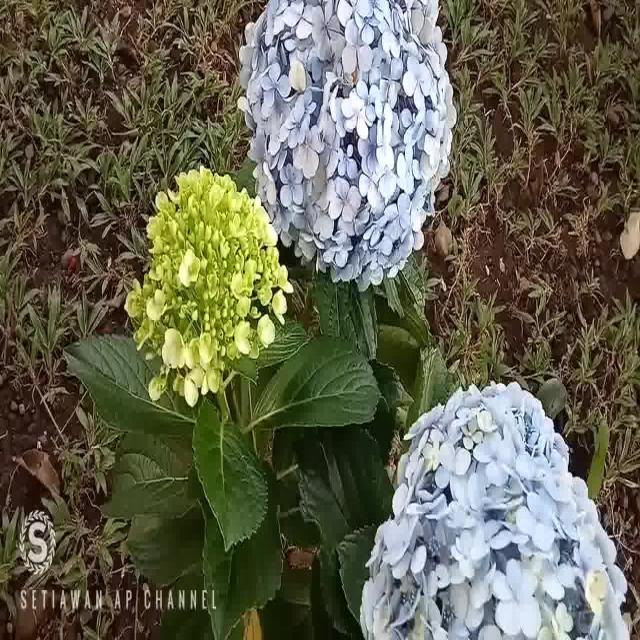Flower: (359, 382, 635, 640), (240, 1, 459, 279), (123, 160, 282, 409)
